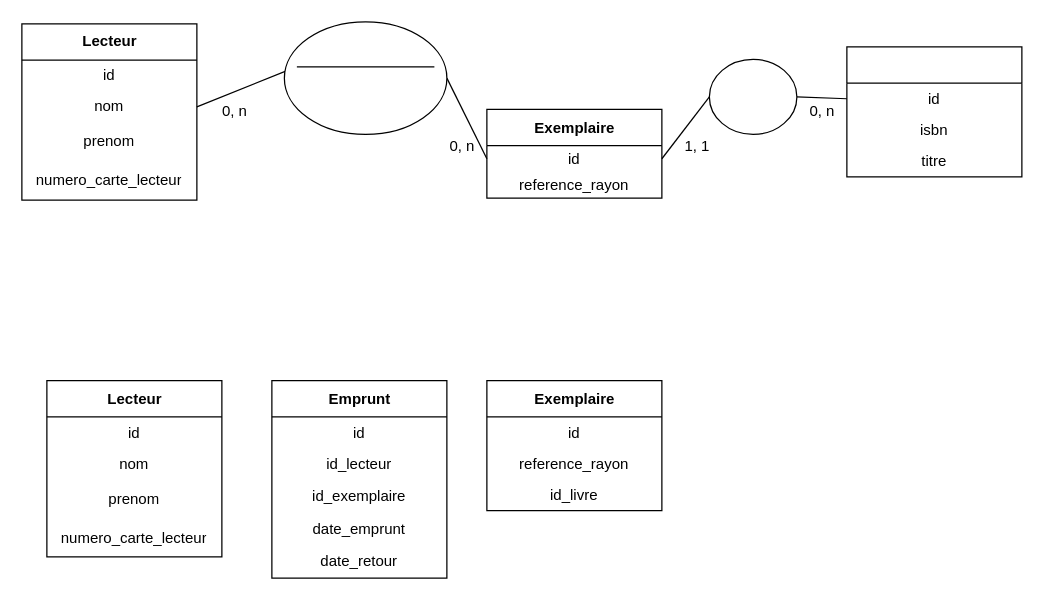
Image size: 1044x600. Some labels were removed from this diagram. Each missing label, with the box of its shape:
Correspond: (708, 58, 797, 134)
Emprunte date_emprunt date_retour: (283, 21, 447, 134)
Livre: (846, 46, 1022, 177)
